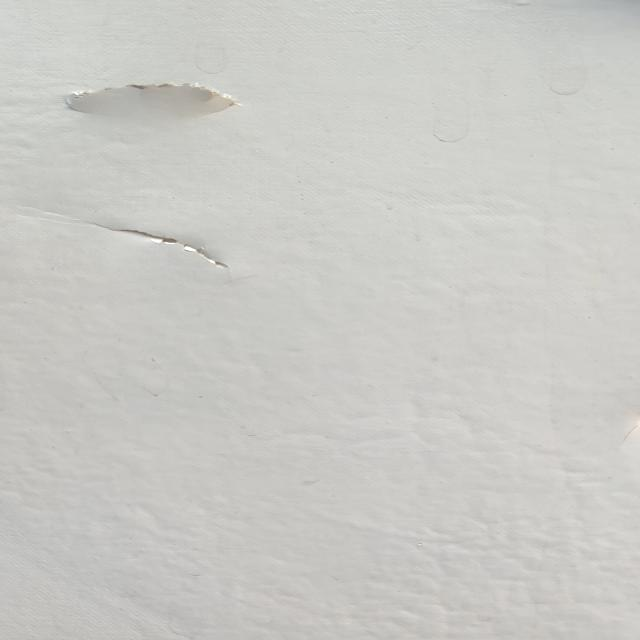Scratches: (78, 221, 275, 284), (47, 69, 258, 125)
